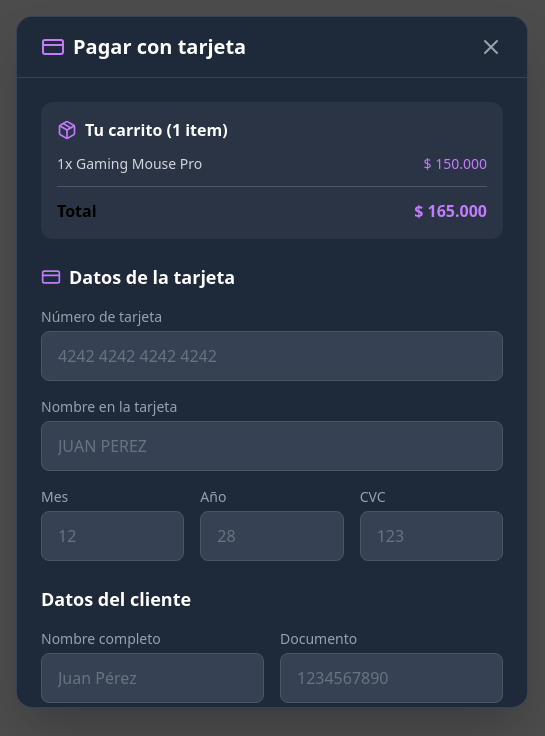
Test: PaymentModal › Card Input › detects Visa card
Step 1. Type "4242424242424242" into the field with placeholder "4242 4242 4242 4242" → {"x": 272, "y": 356}, box [41,331,503,381]
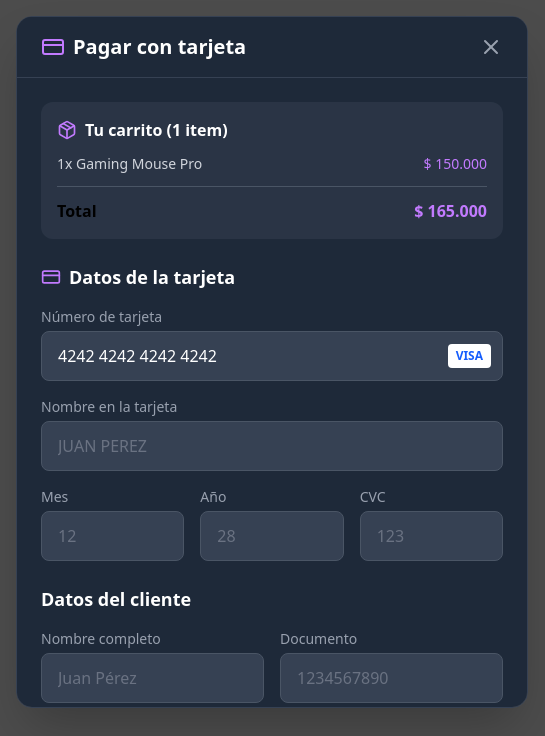
Check: the text "VISA" is shown, box [448,344,491,368]
